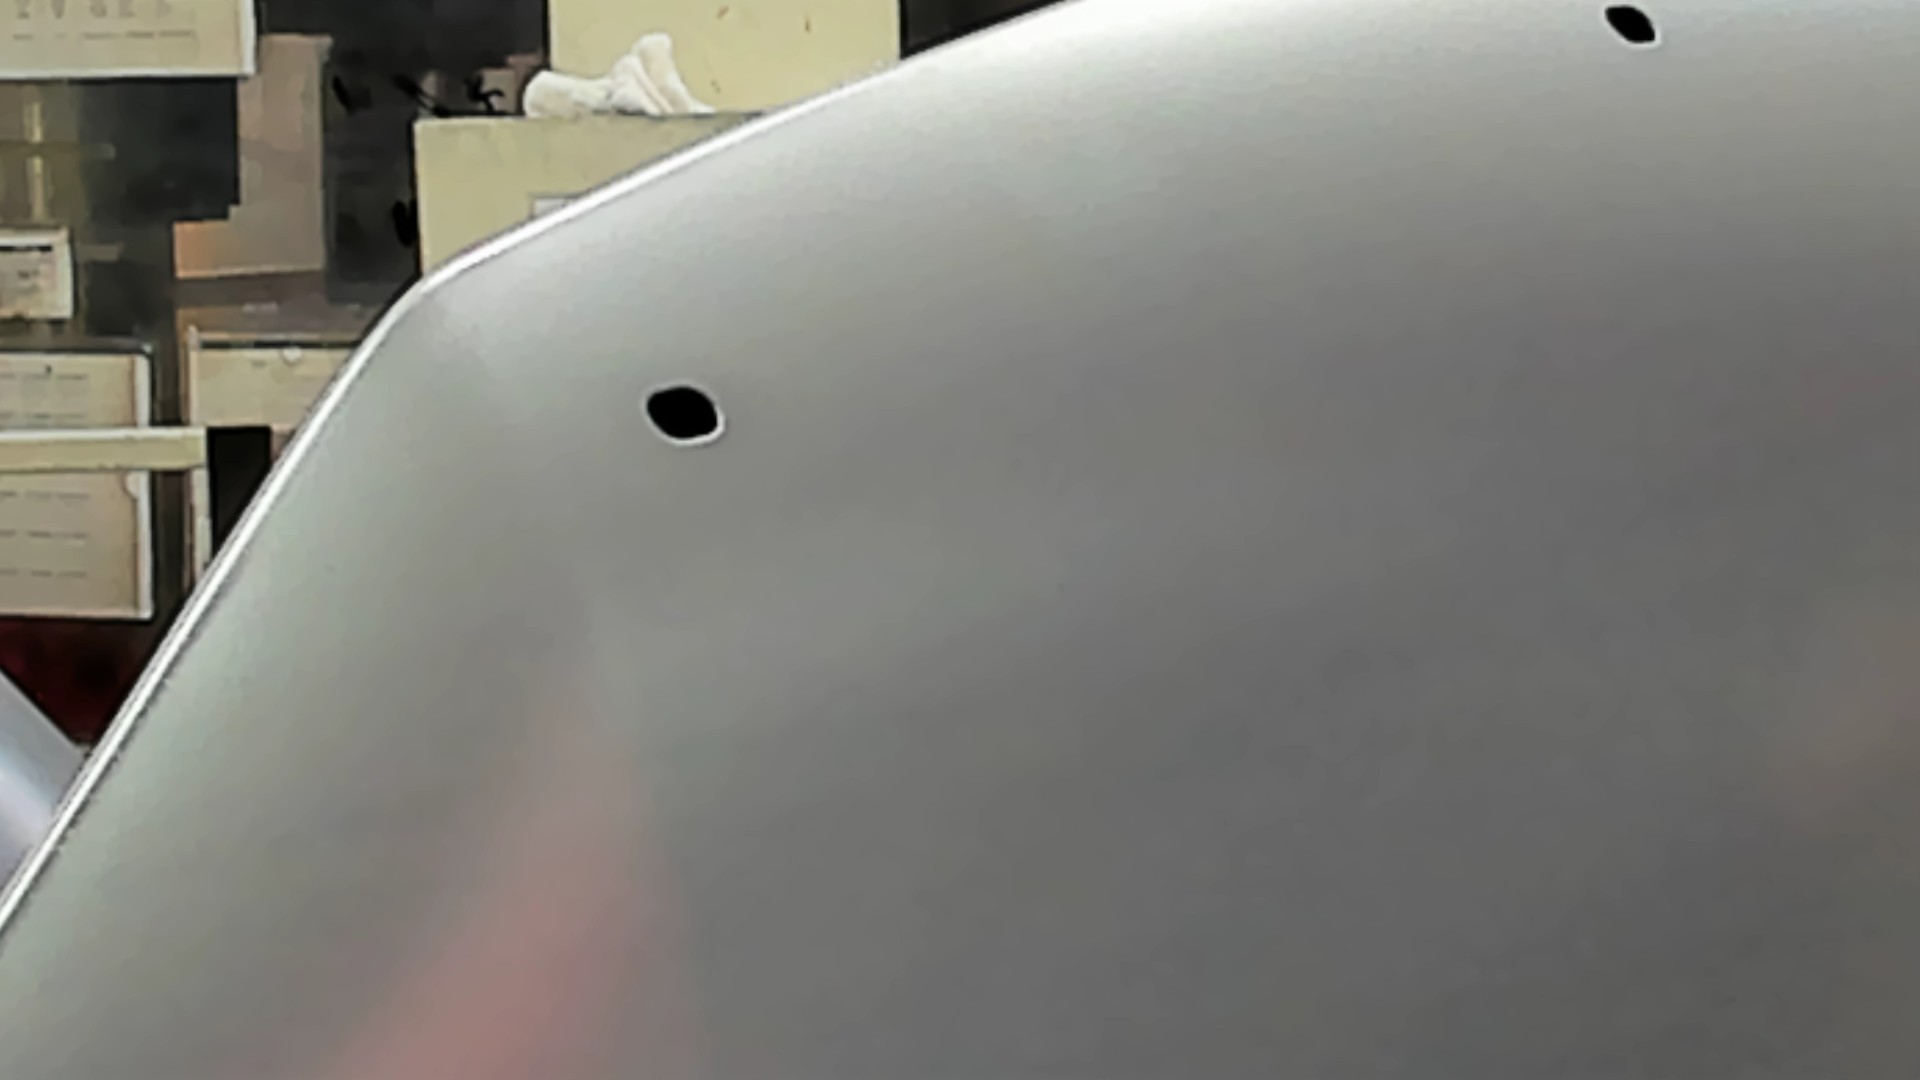amorfo: (640, 385, 735, 444), (1596, 1, 1663, 55)
